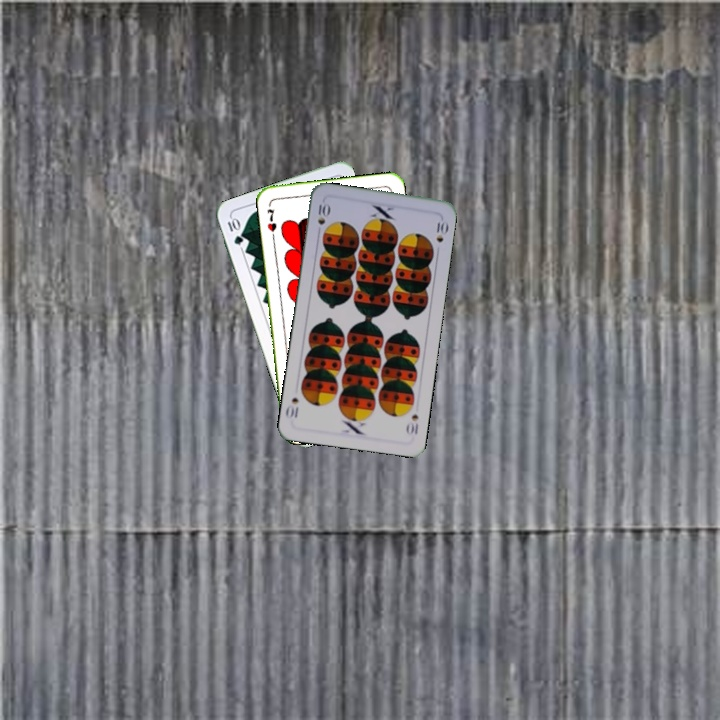G10: (223, 214, 246, 248)
H7: (263, 205, 279, 234)
S10: (314, 197, 331, 228), (402, 410, 421, 437)
